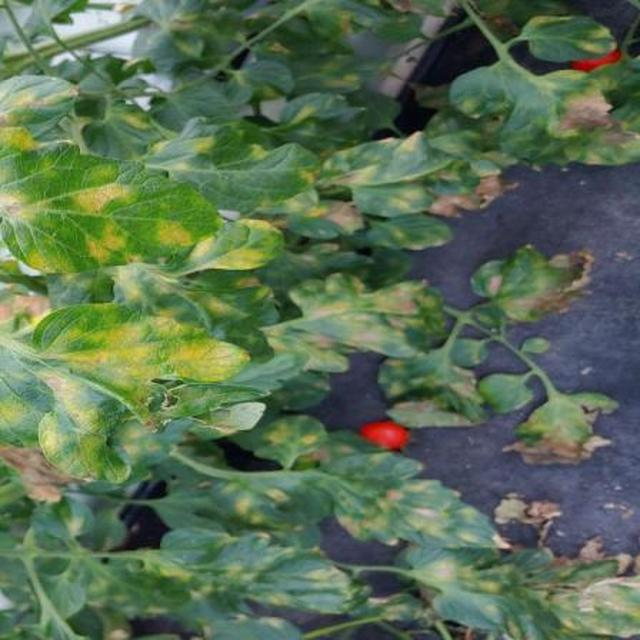Leaf Mold: (133, 51, 640, 640)
